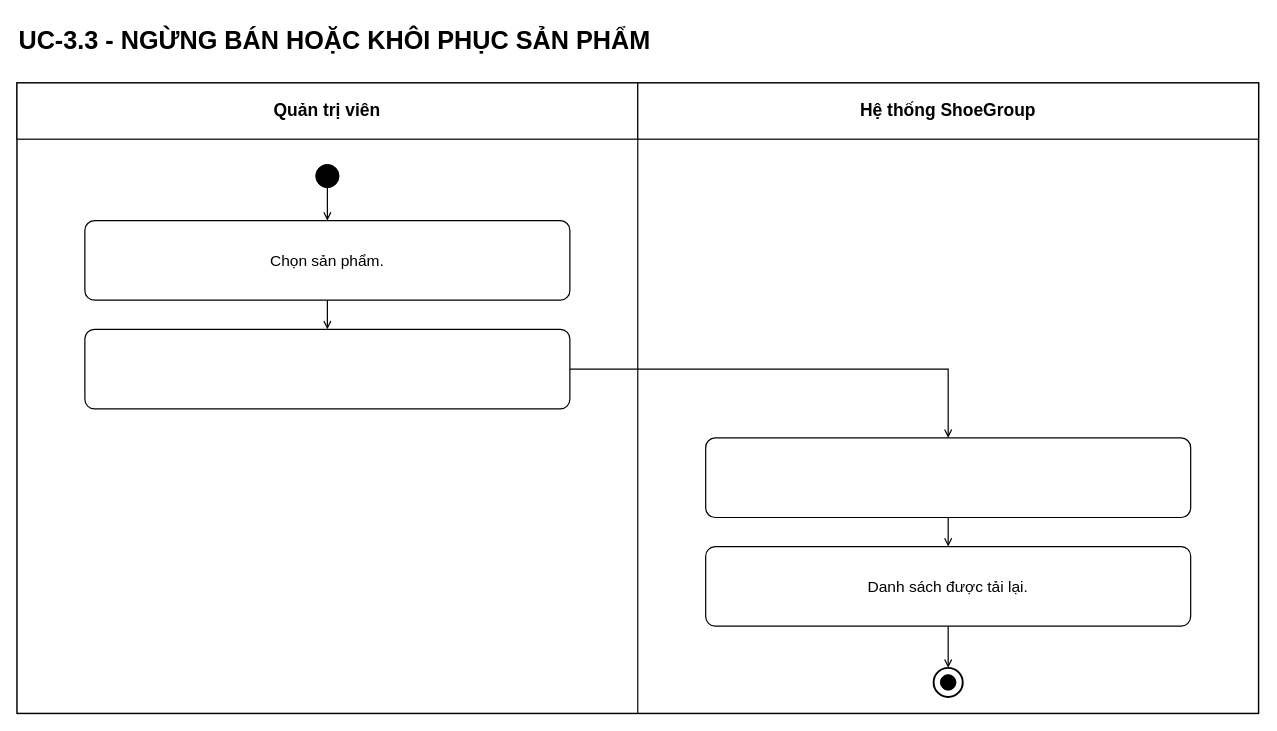
Image size: 1277x731. Some labels were removed from this diagram. Here are the shapes that lost their labels. From the top down, the centre of each, then its label:
At (x=327, y=368): "Xác nhận ngừng bán hoặc khôi phục.".
At (x=948, y=477): "Backend cập nhật trạng thái/xử lý xóa theo ràng buộc lịch sử.".
